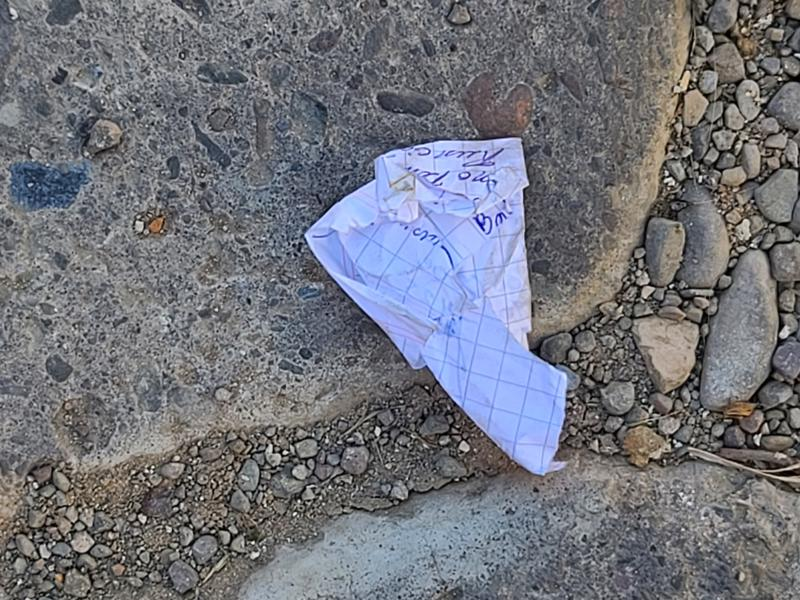papel: (303, 138, 571, 477)
